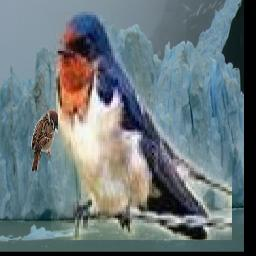Sparrow: (30, 109, 58, 172)
Swallow: (52, 13, 233, 241)
